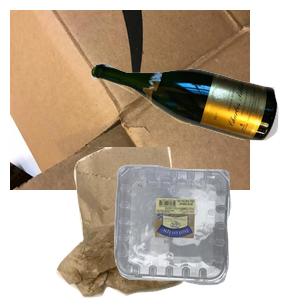cardboard: (10, 10, 250, 190)
glass: (88, 60, 300, 193)
plastic: (112, 162, 300, 300)
trash: (54, 147, 271, 300)
